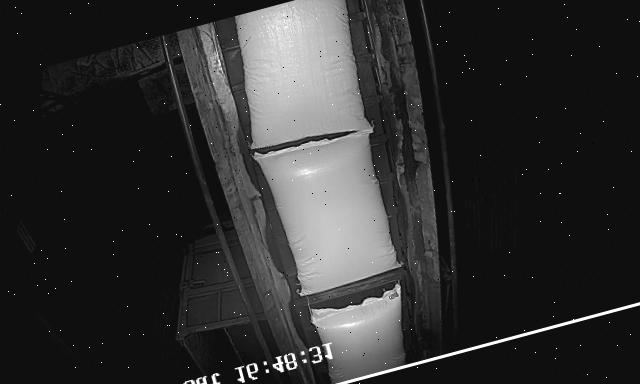bag: (253, 122, 406, 300), (216, 0, 383, 160), (308, 283, 419, 384)
